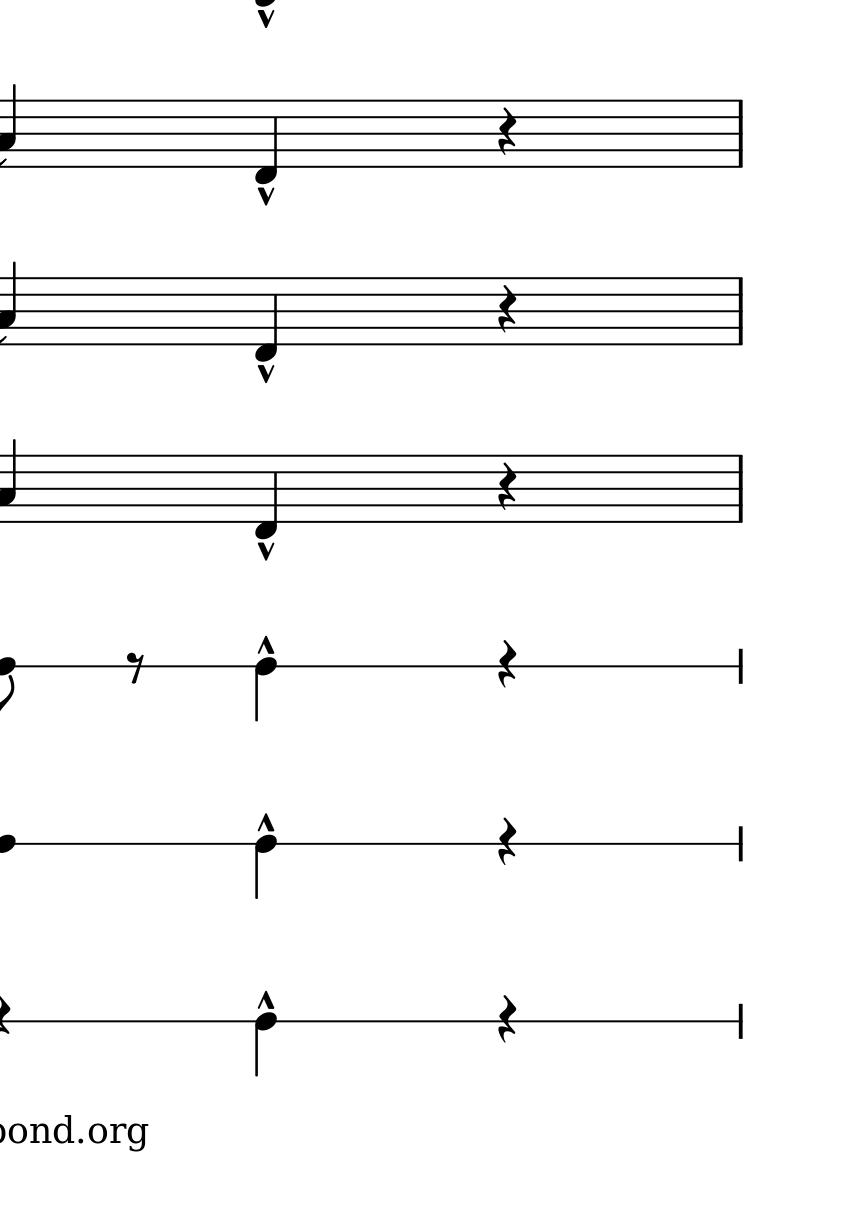4_-1: (252, 96, 281, 185), (254, 452, 281, 541), (254, 276, 279, 363)
4_4: (250, 656, 279, 723), (254, 833, 283, 900), (253, 1012, 282, 1079)
Marcato_above: (254, 989, 276, 1011), (254, 184, 277, 205), (254, 633, 275, 656), (255, 540, 277, 561), (256, 810, 275, 833), (254, 363, 276, 382)
Rests4: (491, 986, 521, 1048), (494, 283, 522, 332), (496, 633, 520, 689), (496, 457, 521, 509), (496, 811, 514, 864), (498, 106, 517, 154)
Rests8: (126, 648, 145, 685)
Single_barline: (729, 278, 750, 346), (729, 456, 750, 524), (729, 100, 749, 169)
